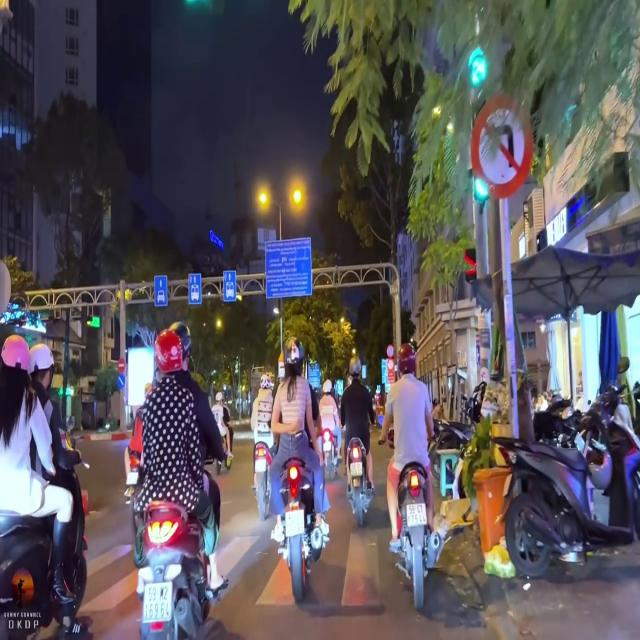bien_trang: (142, 581, 174, 621)
